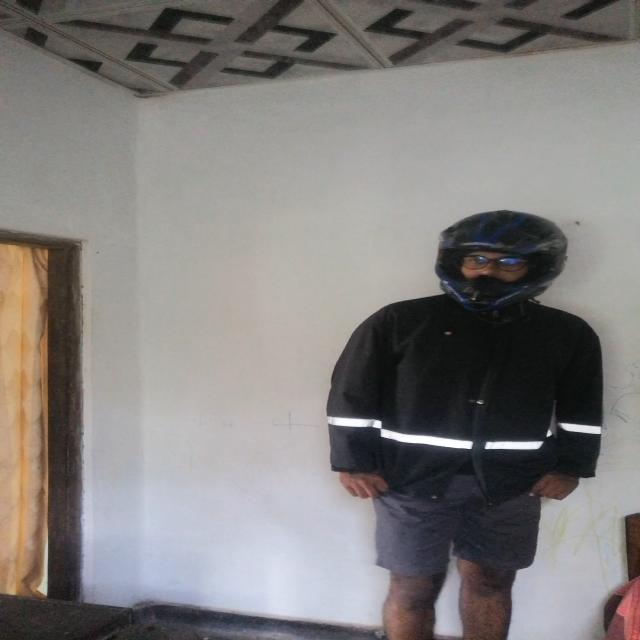Helmet_Wearer: (377, 198, 573, 312)
Jacket_Wearer: (320, 281, 608, 516)
